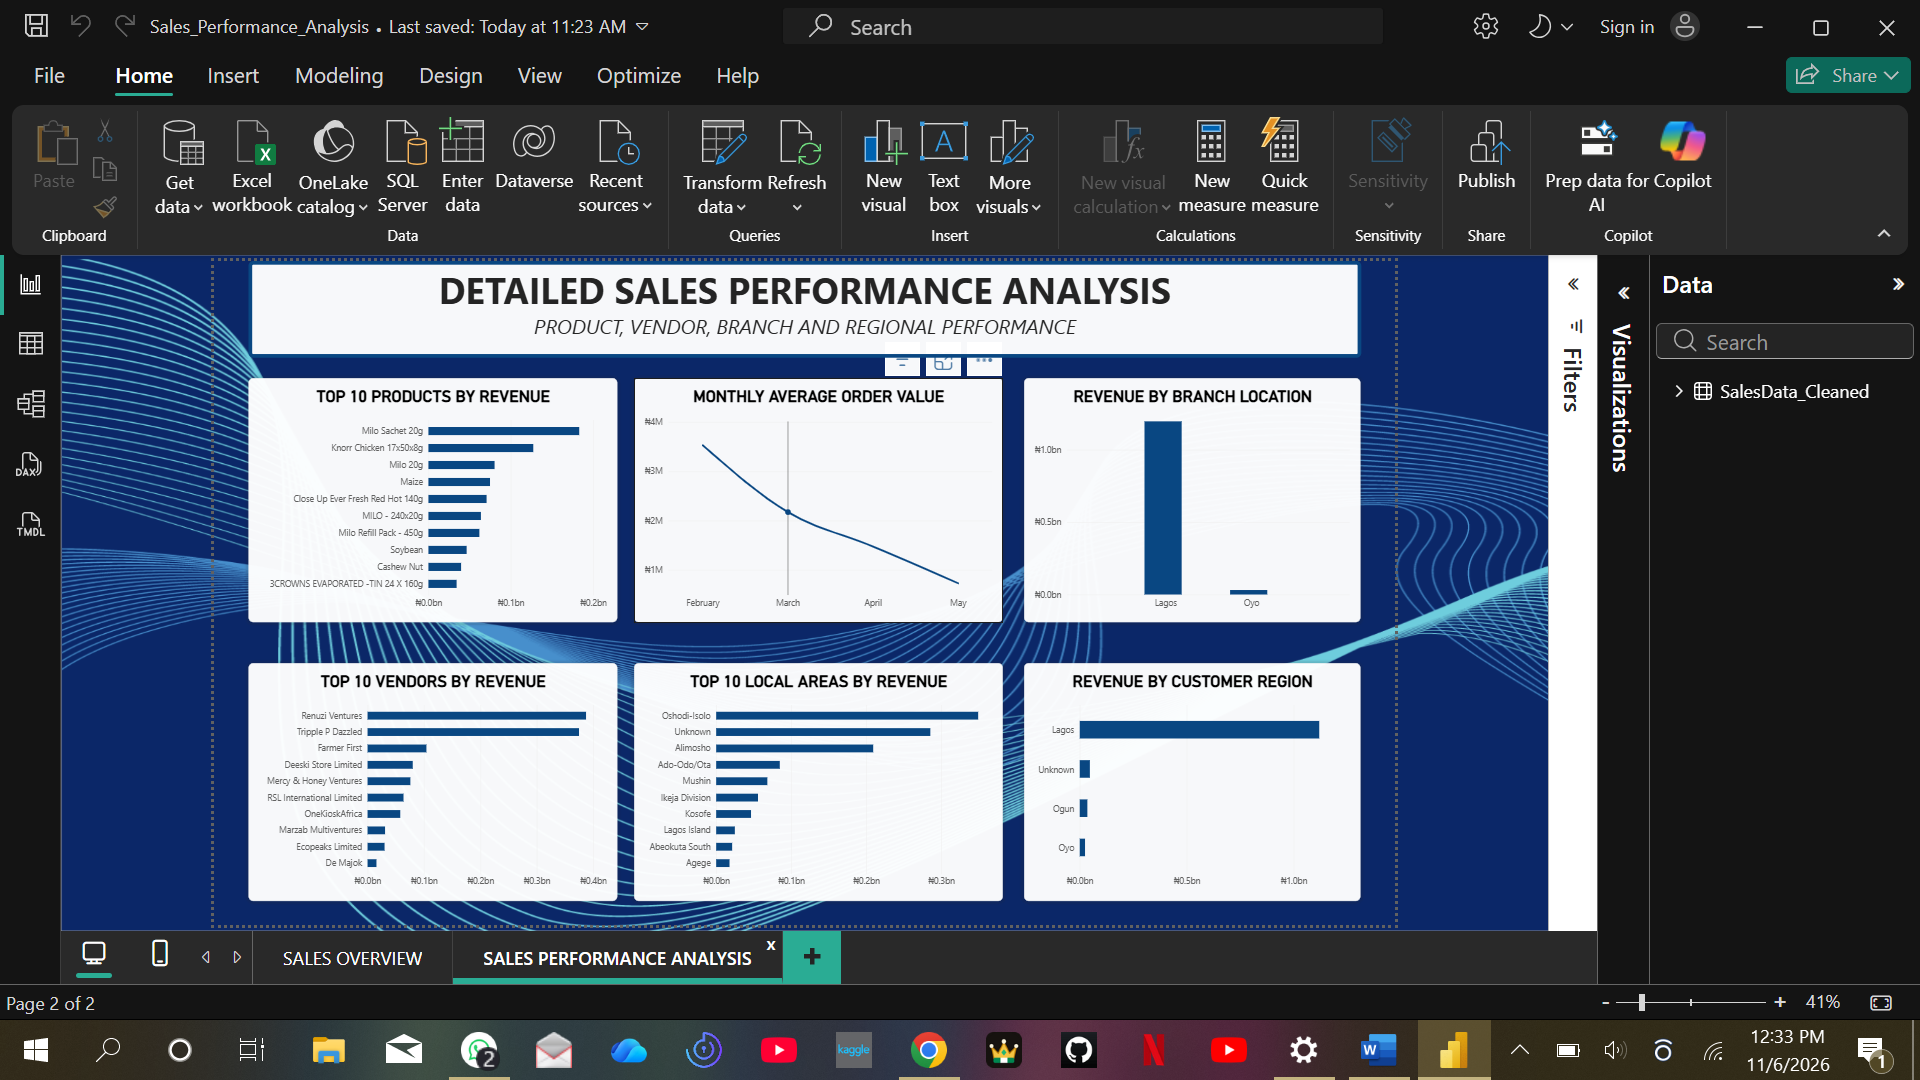

The page's visual inventory and layout, read from the dashboard file:
{"tool":"powerbi","page":{"name":"SALES PERFORMANCE ANALYSIS","canvas":[1920,1080],"ordinal":1},"visuals":[{"type":"clusteredBarChart","title":"TOP 10 VENDORS BY  REVENUE","fields":{"Category":["SalesData_Cleaned.Business_Name"],"Y":["SalesData_Cleaned.Total Revenue"]},"box":[55,655,600,387.5],"z":0},{"type":"clusteredBarChart","title":"TOP 10 LOCAL AREAS BY REVENUE","fields":{"Category":["SalesData_Cleaned.Order_Local_Area"],"Y":["SalesData_Cleaned.Total Revenue"]},"box":[682.5,655,600,387.5],"z":2000},{"type":"lineChart","title":"MONTHLY AVERAGE ORDER VALUE","fields":{"Category":["SalesData_Cleaned.Order_Date.Variation.Date Hierarchy.Month"],"Y":["SalesData_Cleaned.Average Order Value"]},"box":[682.5,190,600,397.5],"z":3000},{"type":"clusteredColumnChart","title":"REVENUE BY BRANCH LOCATION","fields":{"Category":["SalesData_Cleaned.Branch_Location"],"Y":["SalesData_Cleaned.Total Revenue"]},"box":[1317.5,190,547.5,397.5],"z":3001},{"type":"clusteredBarChart","title":"TOP 10 PRODUCTS BY REVENUE","fields":{"Category":["SalesData_Cleaned.Item_Name"],"Y":["SalesData_Cleaned.Total Revenue"]},"box":[55,190,600,397.5],"z":3002},{"type":"clusteredBarChart","title":"REVENUE BY CUSTOMER  REGION","fields":{"Category":["SalesData_Cleaned.Order_Region"],"Y":["SalesData_Cleaned.Total Revenue"]},"box":[1317.5,655,547.5,387.5],"z":3003},{"type":"textbox","box":[55,0,1810,157.5],"z":3004}]}

Visuals, with their boxes on the page's 1920x1080 design canvas (x1, y1, x2, y2). These are canvas units, not pixel positions in the 1920x1080 screenshot, which may show the page scaled, cropped or inside an application window:
"TOP 10 VENDORS BY  REVENUE" clusteredBarChart: pyautogui.locateOnScreen(55, 655, 655, 1042)
"TOP 10 LOCAL AREAS BY REVENUE" clusteredBarChart: pyautogui.locateOnScreen(682, 655, 1282, 1042)
"MONTHLY AVERAGE ORDER VALUE" lineChart: pyautogui.locateOnScreen(682, 190, 1282, 588)
"REVENUE BY BRANCH LOCATION" clusteredColumnChart: pyautogui.locateOnScreen(1318, 190, 1865, 588)
"TOP 10 PRODUCTS BY REVENUE" clusteredBarChart: pyautogui.locateOnScreen(55, 190, 655, 588)
"REVENUE BY CUSTOMER  REGION" clusteredBarChart: pyautogui.locateOnScreen(1318, 655, 1865, 1042)
textbox: pyautogui.locateOnScreen(55, 0, 1865, 158)
